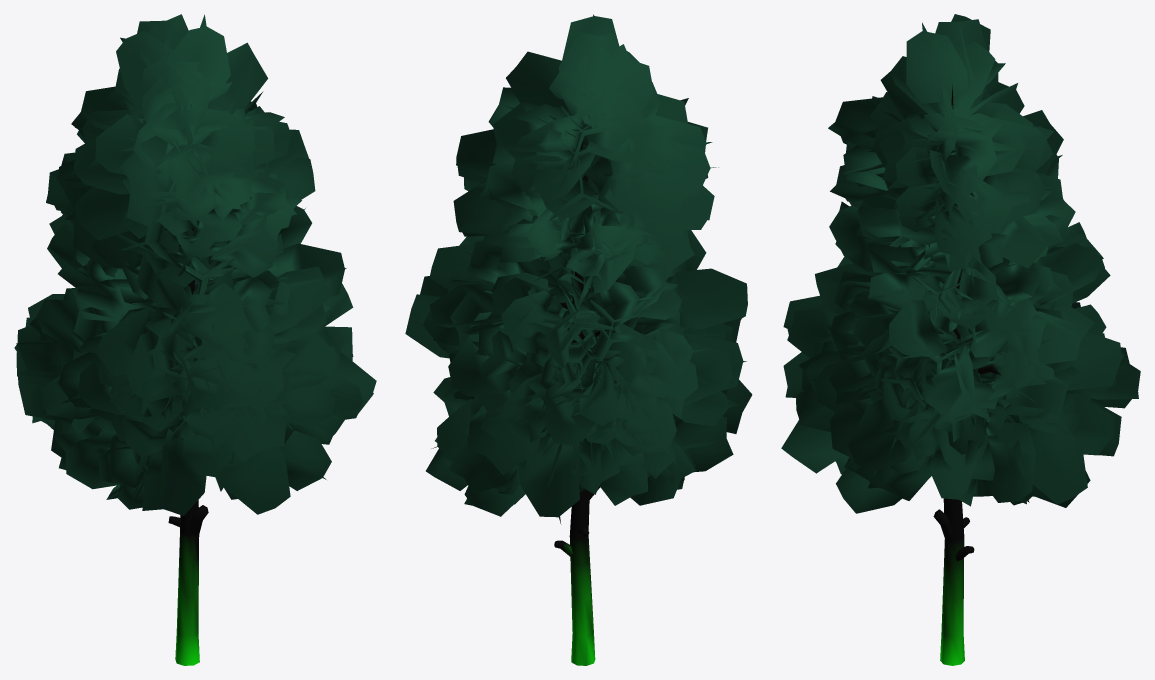
The model's file is SM_FirTree2.fbx.
3 views of the same model, side by side, from view 1: azimuth 30°, elevation 25°; view 2: azimuth 150°, elevation 25°; view 3: azimuth 270°, elevation 25° (orthographic). The views are drawn at different scales.
Parts seen in each view (by area): view 1: SM_FirTree2_LOD0; view 2: SM_FirTree2_LOD0; view 3: SM_FirTree2_LOD0.
Part boxes in pixels (x1,y1,x2,y2): SM_FirTree2_LOD0: (14, 14, 376, 665); SM_FirTree2_LOD0: (405, 14, 752, 665); SM_FirTree2_LOD0: (781, 14, 1140, 665).
Size of what is drawn, in the model's own units: 879 by 1747 by 900.
